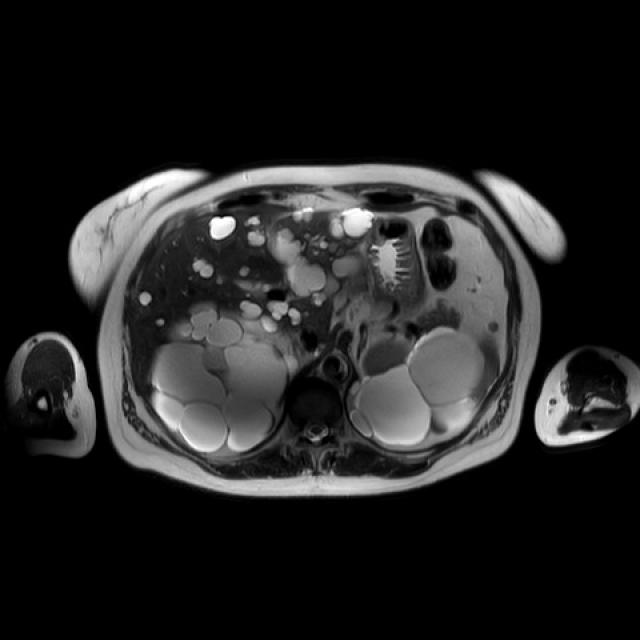sag: (151, 305, 298, 449)
sol: (351, 330, 498, 445)
